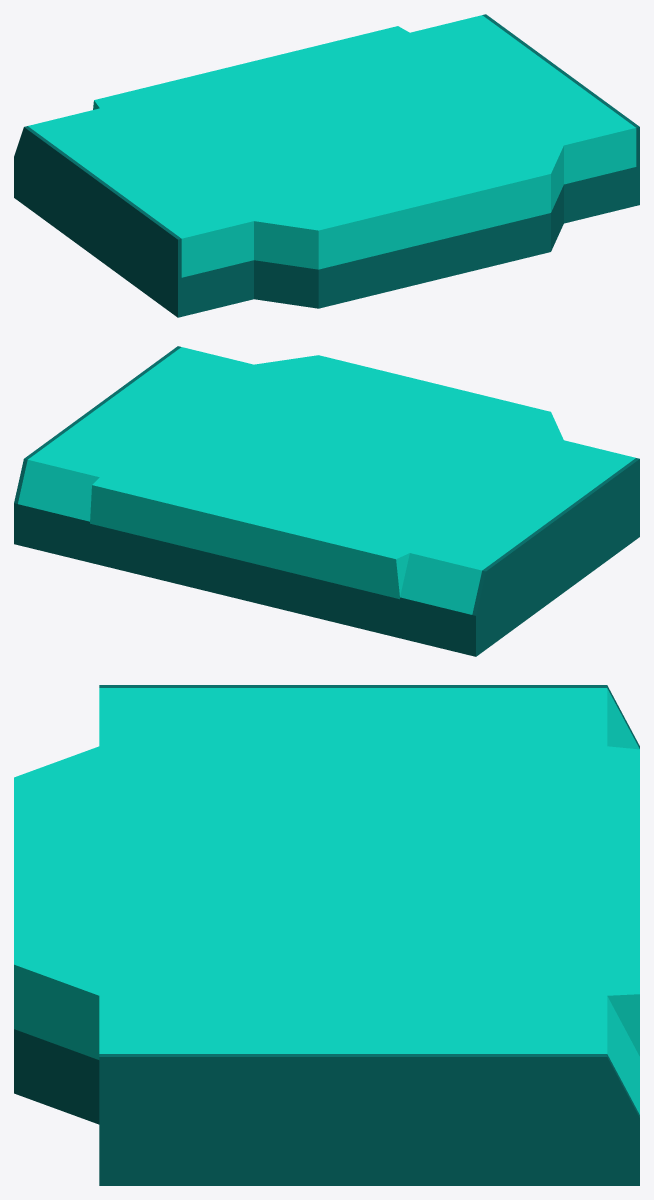
The model's file is BonusPlatform.fbx.
The picture shows the model from 3 angles, top to bottom: view 1: azimuth 30°, elevation 25°; view 2: azimuth 150°, elevation 25°; view 3: azimuth 270°, elevation 25°; orthographic projection. The views are drawn at different scales.
Parts seen in each view (by area): view 1: Bonus_Platform; view 2: Bonus_Platform; view 3: Bonus_Platform.
Part boxes in pixels (x1,y1,x2,y2): Bonus_Platform: (14, 14, 639, 317); Bonus_Platform: (14, 346, 639, 656); Bonus_Platform: (14, 685, 639, 1185).
Bounding box in the file's own units: 15.7 × 2.54 × 11.17.
